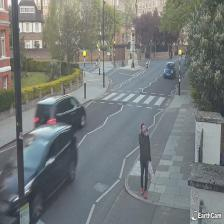person: (138, 123, 151, 198)
